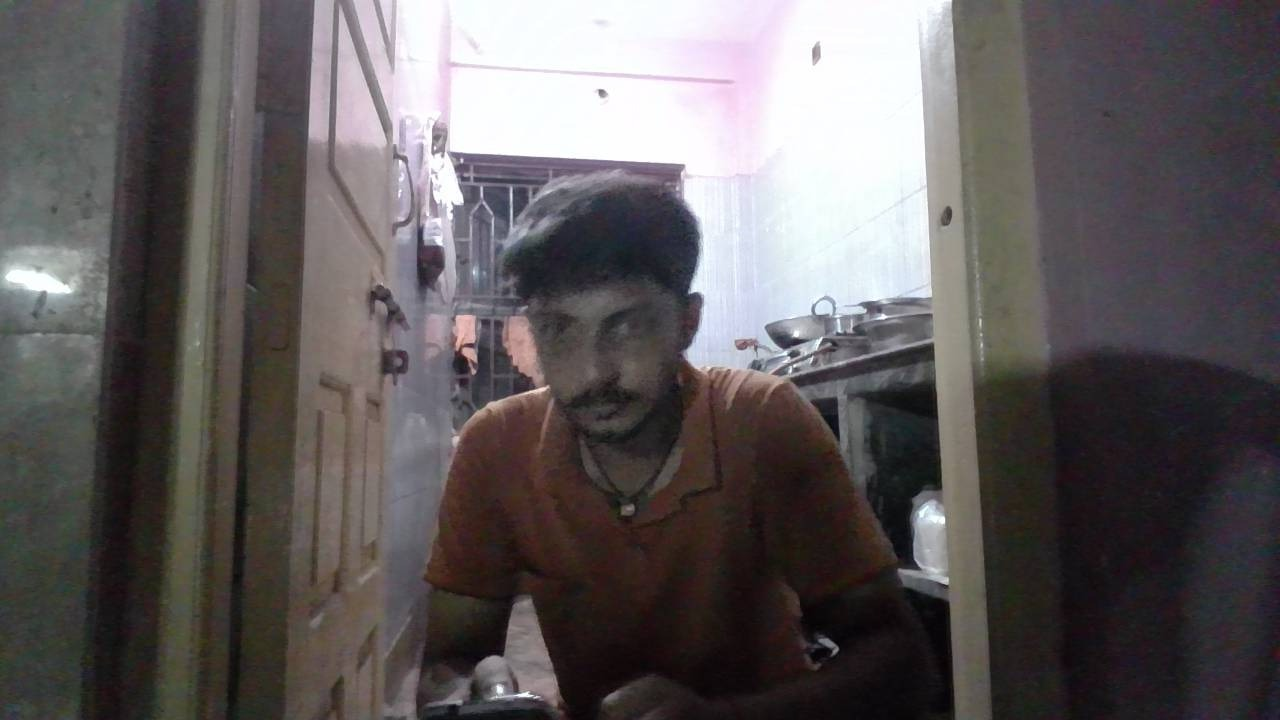red_box: (426, 406, 615, 584), (640, 449, 699, 522)
